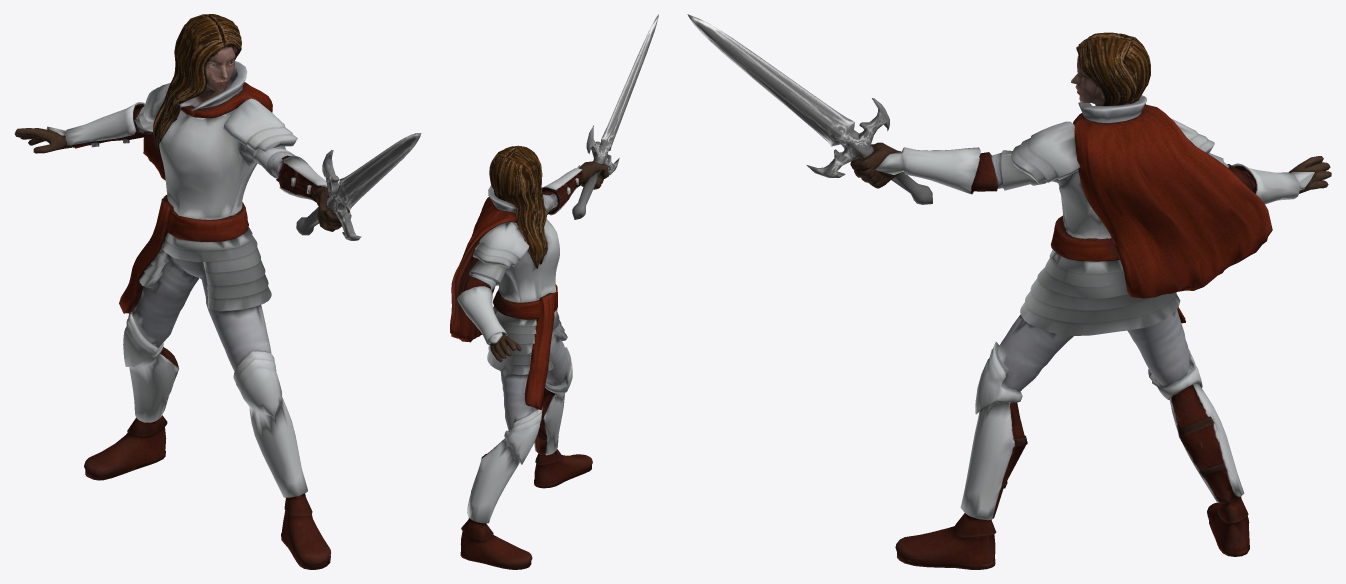
File: MZ4250 - Ireena.glb
The picture shows the model from 3 angles, left to right: view 1: azimuth 30°, elevation 25°; view 2: azimuth 150°, elevation 25°; view 3: azimuth 270°, elevation 25°; orthographic projection. The views are drawn at different scales.
Visible parts, largest first — view 1: Ireena; view 2: Ireena; view 3: Ireena.
Part boxes in pixels (left/top/right/bottom): Ireena: left=14, top=14, right=421, bottom=569; Ireena: left=450, top=14, right=658, bottom=569; Ireena: left=687, top=14, right=1331, bottom=569.
Size of the model in its own units: 0.3564 by 1.15 by 1.23.
1 material, 1 textured.
